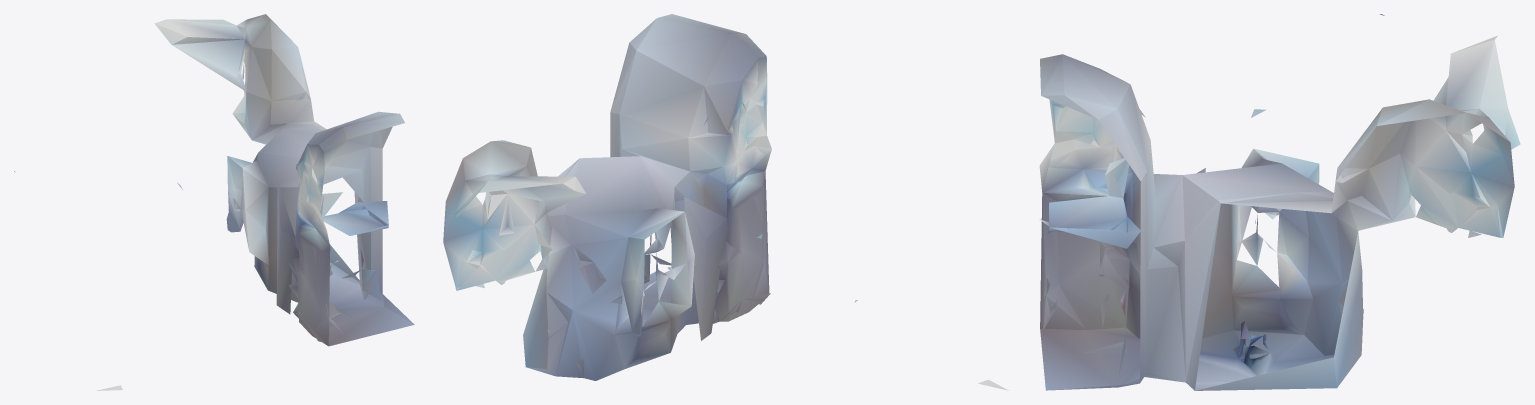
3 renders of one model, left to right at view 1: azimuth 30°, elevation 25°; view 2: azimuth 150°, elevation 25°; view 3: azimuth 270°, elevation 25°, orthographic. The views are drawn at different scales.
Bounding box in the file's own units: 10.04 × 6.88 × 9.95.
